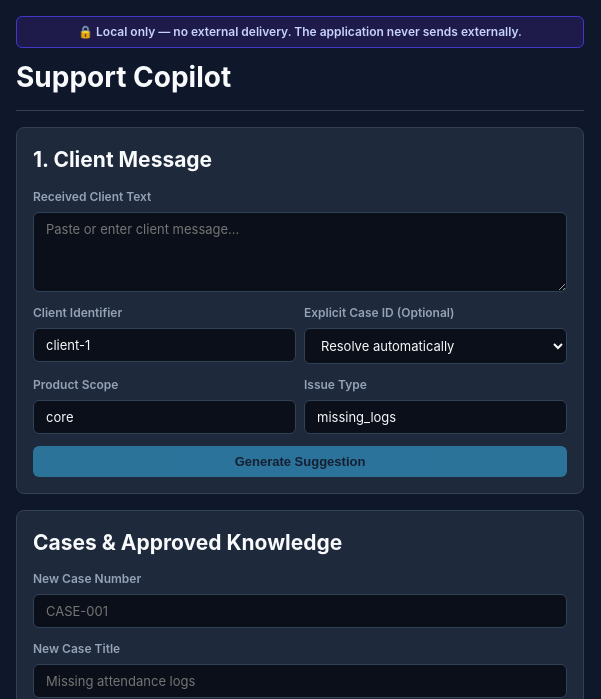
Test: Desktop Overlay App Component › handles knowledge unavailable safely
Step 1. Type "Query" into the text box labelled "Received Client Text" → (300, 252), box [33,212,567,292]
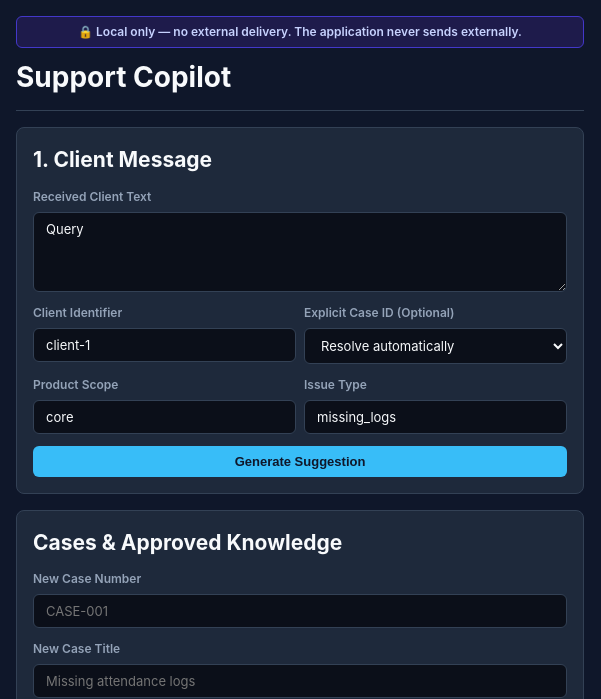
Step 2. Click the button "Generate Suggestion" → (300, 461), box [33,446,567,476]
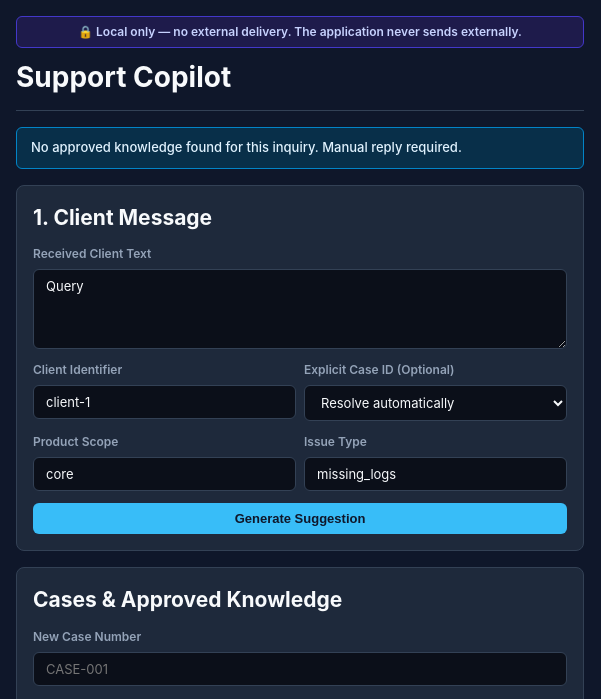
Result: the text "No approved knowledge found for this inquiry. Manual reply required." is shown at [16,127,584,168]
